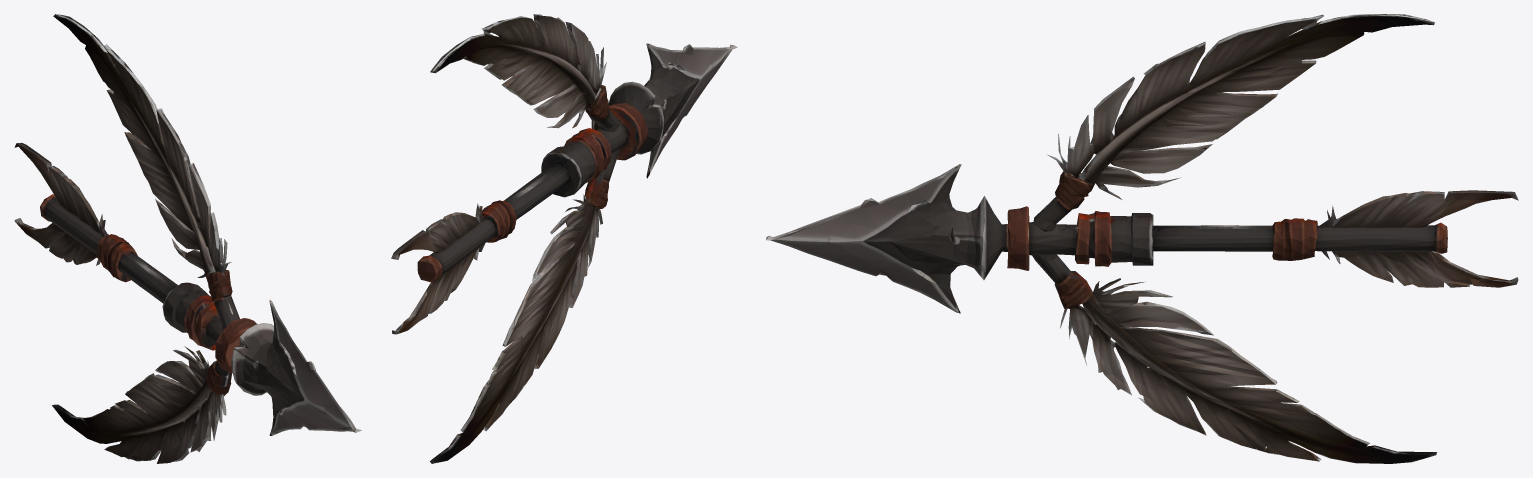
File: tripo_convert_33081f96-7c68-4071-b53a-f9c356086390.obj
The picture shows the model from 3 angles, left to right: view 1: azimuth 30°, elevation 25°; view 2: azimuth 150°, elevation 25°; view 3: azimuth 270°, elevation 25°; orthographic projection. The views are drawn at different scales.
Parts seen in each view (by area): view 1: tripo_node_33081f96-7c68-4071-b53a-f9c356086390; view 2: tripo_node_33081f96-7c68-4071-b53a-f9c356086390; view 3: tripo_node_33081f96-7c68-4071-b53a-f9c356086390.
Boxes of the visible parts, x1=… form: tripo_node_33081f96-7c68-4071-b53a-f9c356086390: x1=14, y1=14, x2=361, y2=463; tripo_node_33081f96-7c68-4071-b53a-f9c356086390: x1=391, y1=14, x2=737, y2=463; tripo_node_33081f96-7c68-4071-b53a-f9c356086390: x1=766, y1=14, x2=1518, y2=463.
Size of the model in its own units: 0.0929 by 0.6561 by 0.9999.
Materials: 1 (1 with a texture image).
